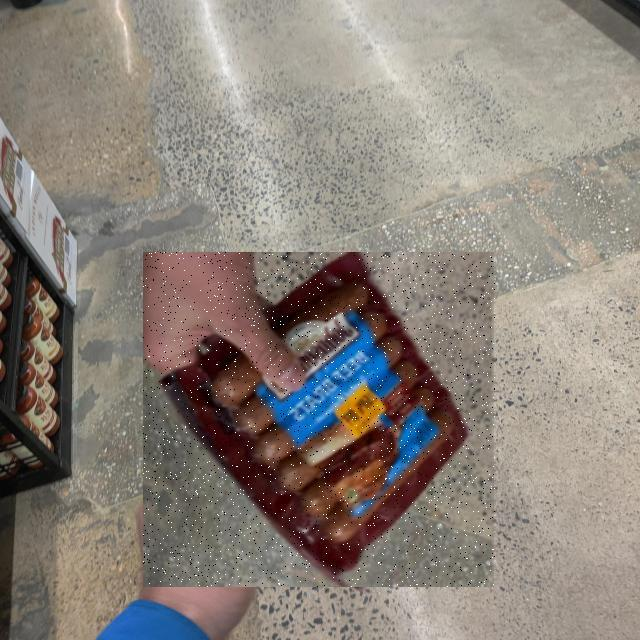Meat: (144, 252, 496, 587)
